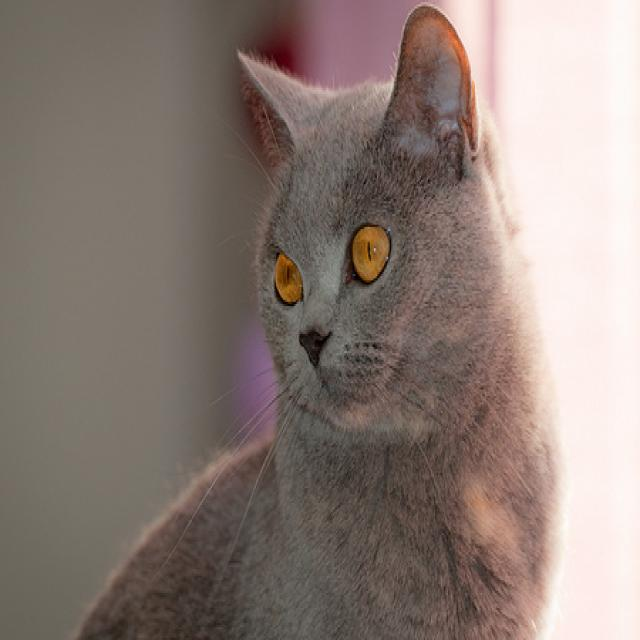British Shorthair: (53, 0, 570, 640)
